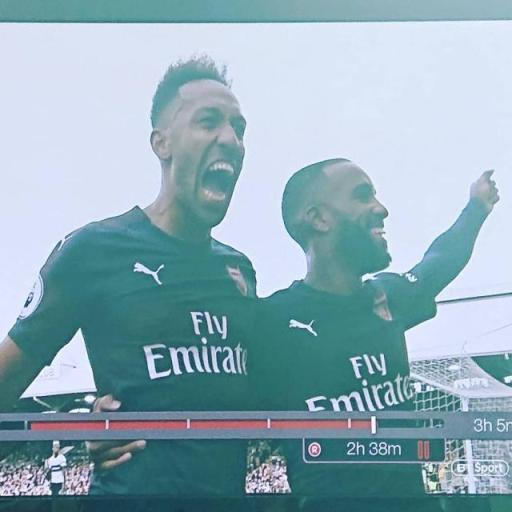Emirates: (140, 308, 254, 385), (302, 352, 416, 420)
